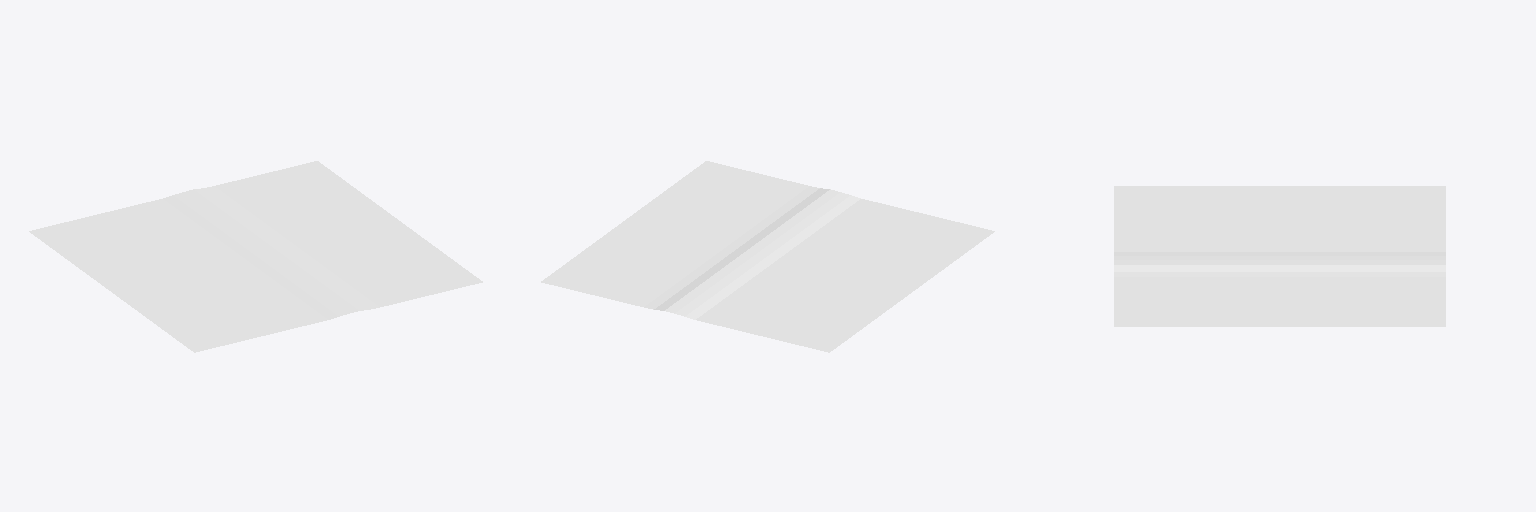
File: carpet.obj
The picture shows the model from 3 angles: view 1: azimuth 30°, elevation 25°; view 2: azimuth 150°, elevation 25°; view 3: azimuth 270°, elevation 25°; orthographic projection.
Visible parts, largest first — view 1: Plane06; view 2: Plane06; view 3: Plane06.
Boxes of the visible parts, x1=… form: Plane06: x1=29, y1=161, x2=482, y2=352; Plane06: x1=541, y1=161, x2=994, y2=352; Plane06: x1=1114, y1=186, x2=1445, y2=326.
Size of the model in its own units: 6.01 by 0.0317 by 5.97.